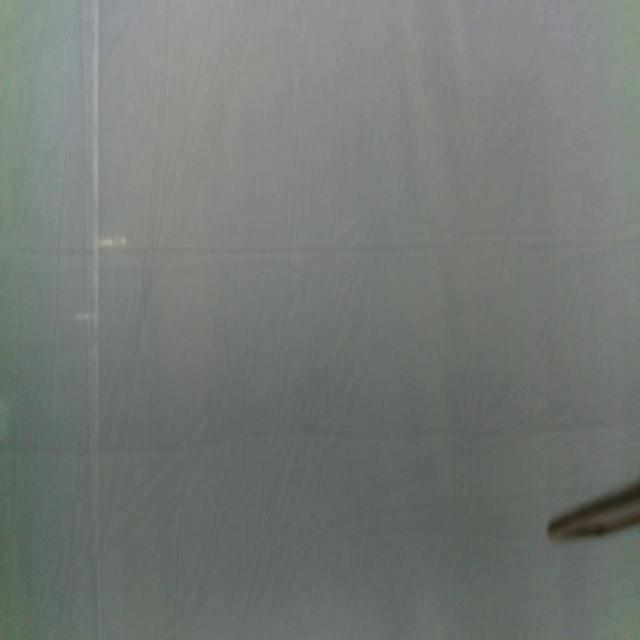color bleeding: (0, 225, 640, 466)
crease: (78, 0, 103, 639)
